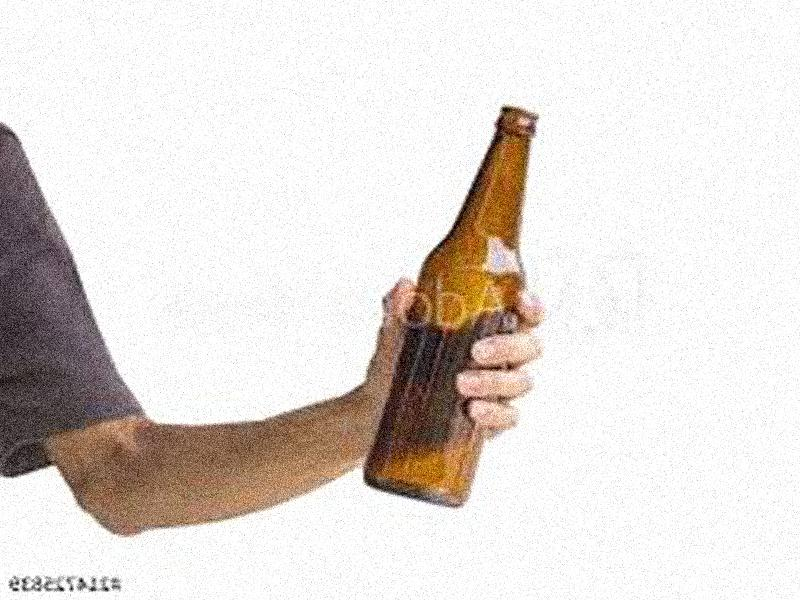Beer: (362, 104, 541, 507)
